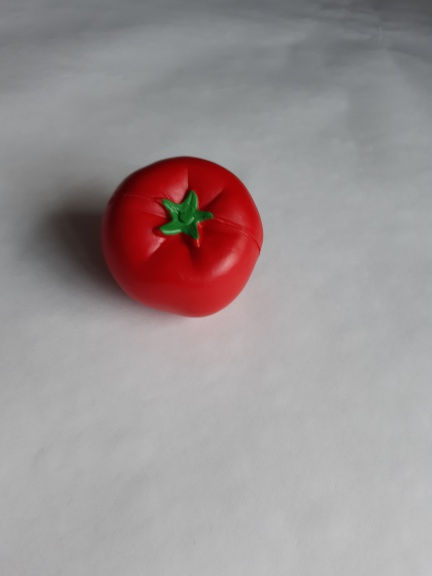tomato: (90, 145, 274, 326)
